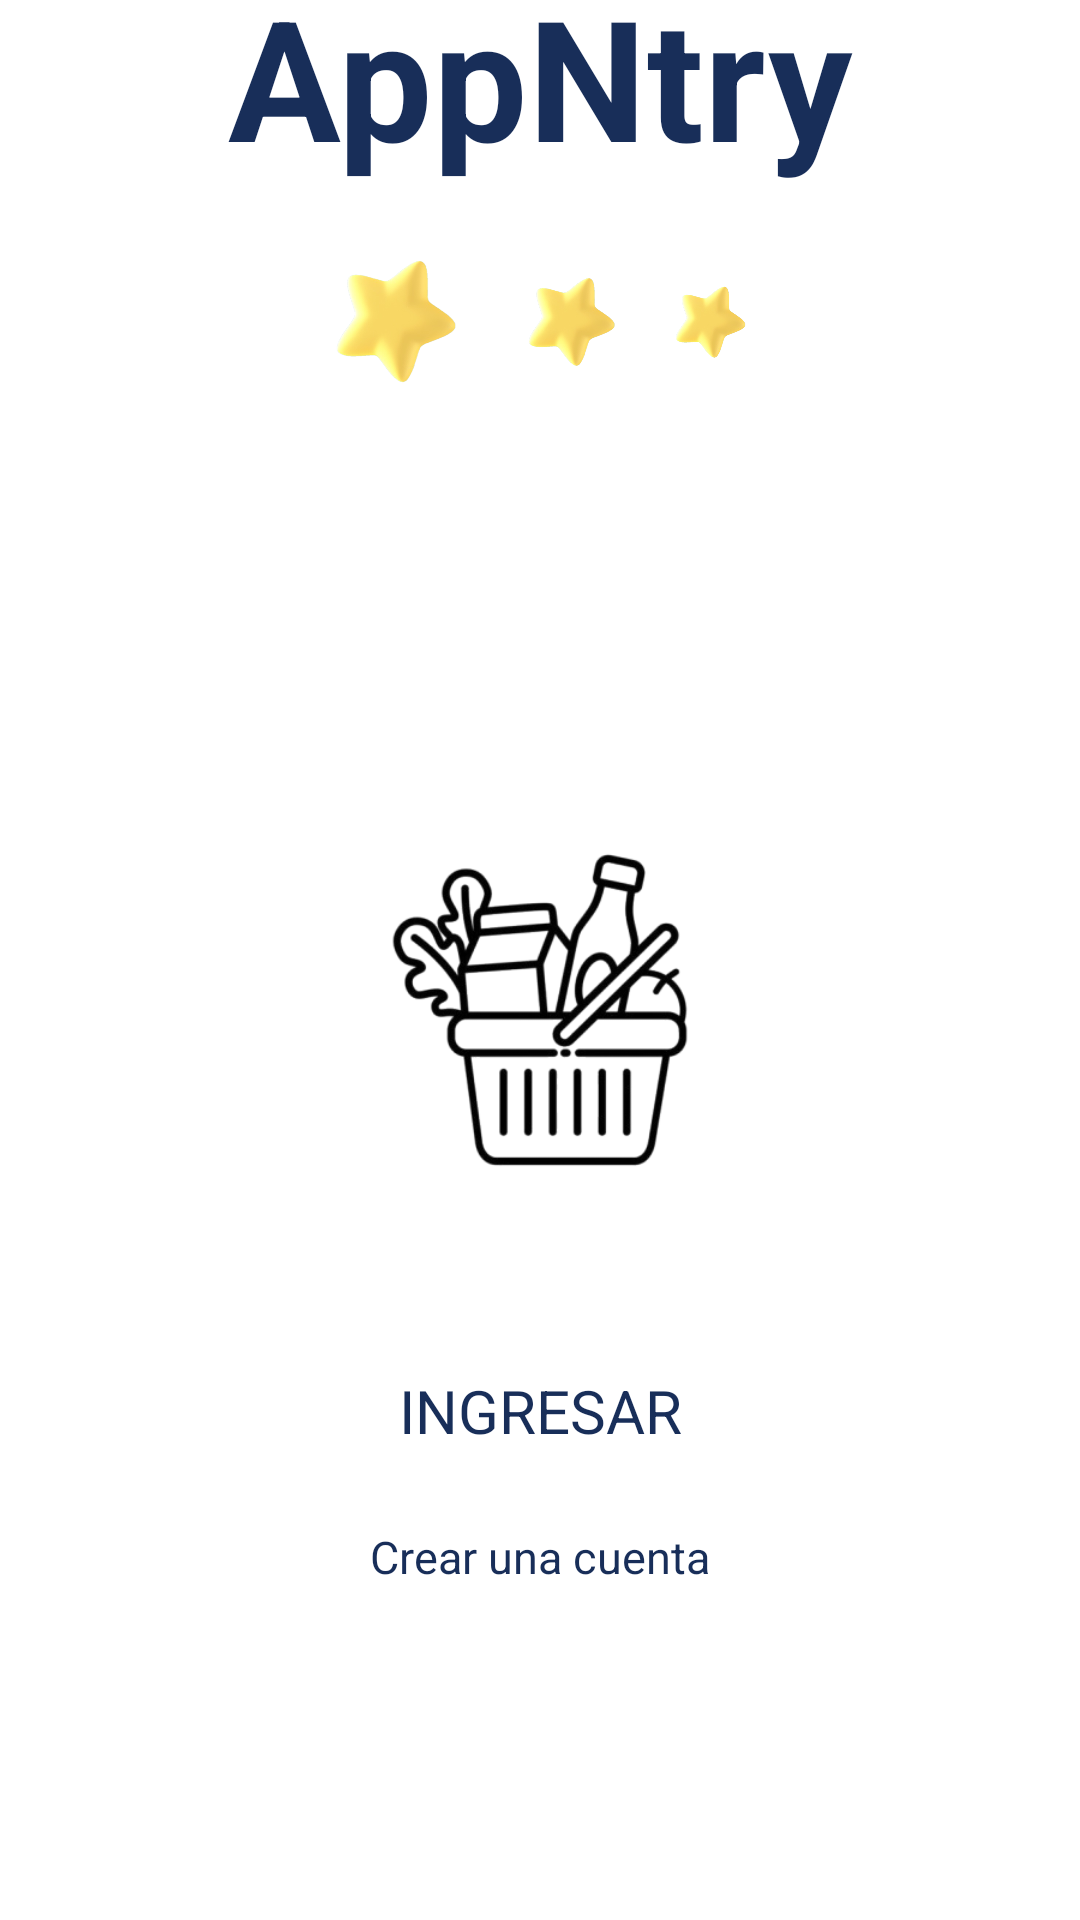

Screen size 1080px×1920px. Icon name, then its box in pixels as (x1, y1, x2, y2):
estrella: (337, 261, 456, 382), (529, 278, 615, 366), (676, 287, 745, 358)
